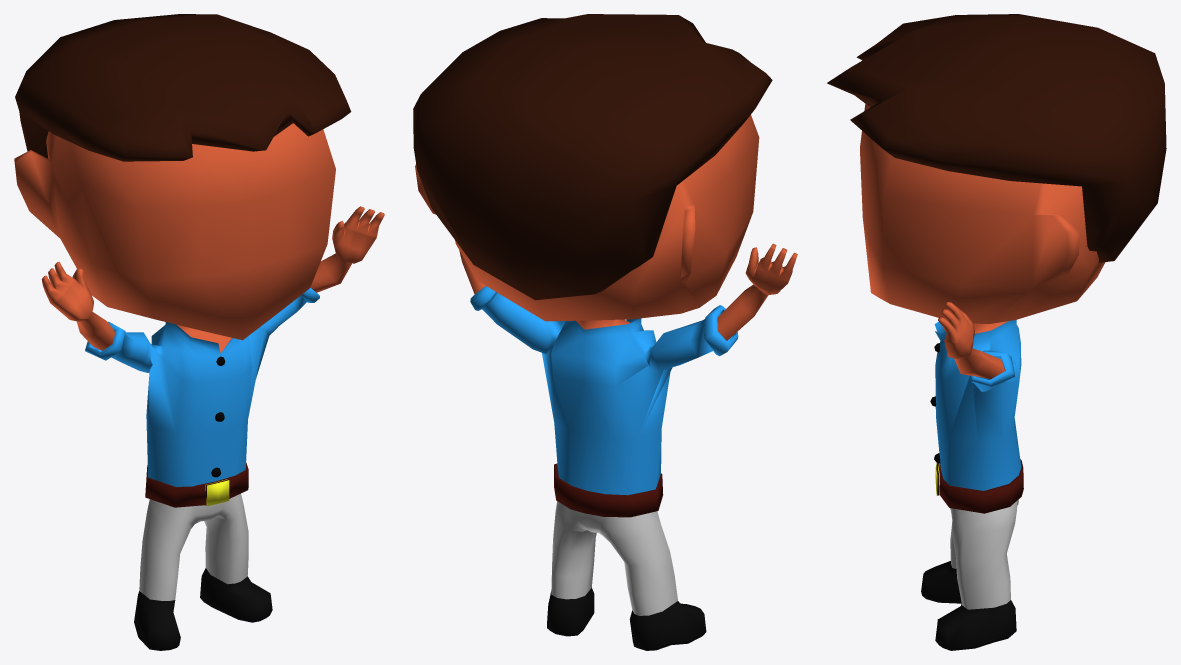
The model's file is Male NPC - blue shirt,white pants.FBX.
The picture shows the model from 3 angles, left to right: view 1: azimuth 30°, elevation 25°; view 2: azimuth 150°, elevation 25°; view 3: azimuth 270°, elevation 25°; orthographic projection. The views are drawn at different scales.
Parts seen in each view (by area): view 1: Group002, BrockLee014; view 2: Group002, BrockLee014; view 3: Group002, BrockLee014.
Part boxes in pixels (box(x1,y1,x2,y2)): Group002: box(15, 14, 351, 650); BrockLee014: box(14, 123, 384, 477); Group002: box(413, 14, 772, 650); BrockLee014: box(415, 115, 797, 340); Group002: box(827, 14, 1166, 650); BrockLee014: box(860, 104, 1105, 463).
Bounding box in the file's own units: 112 × 96.04 × 180.
